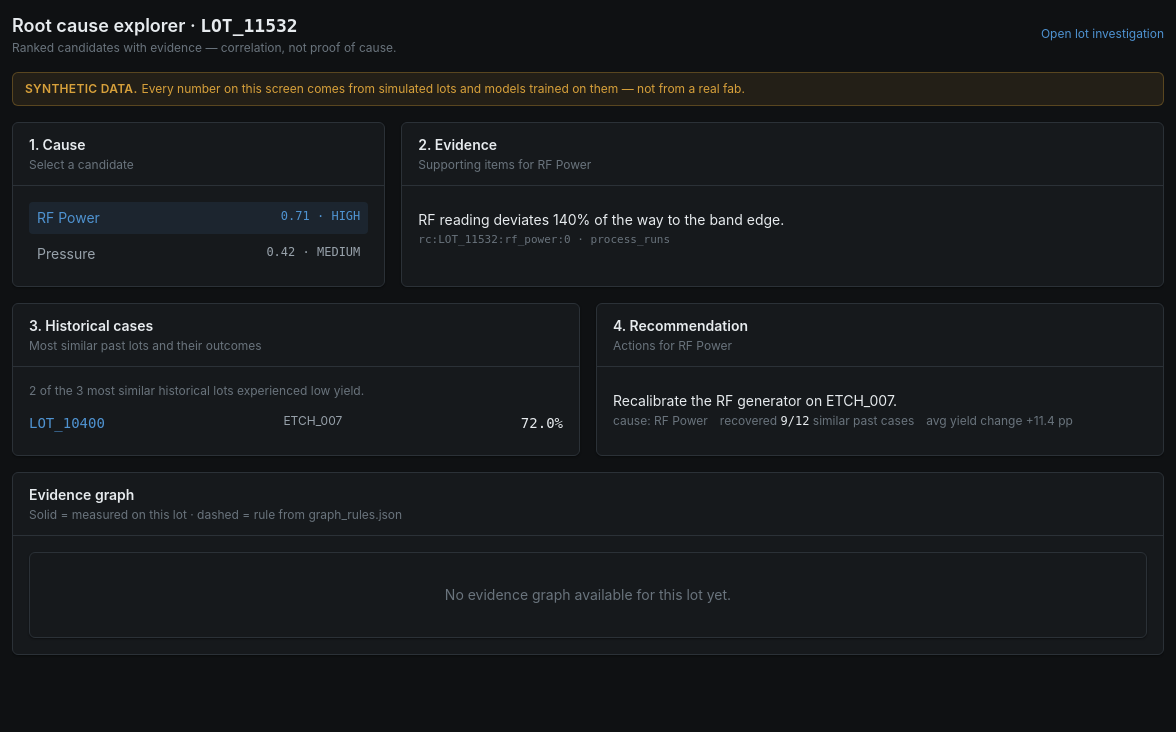
Test case: RootCauseExplorer › filters evidence and actions to the selected cause
The width and height of the screenshot is (1176, 732).
Expected: the list with test id "evidence-list" is shown, [418,211,784,246]
Expected: the text "RF reading deviates 140% of the way to the band edge." is shown, [418,211,784,228]
Click the button "Pressure 0.42 · MEDIUM".
click(66, 254)  # box [29,238,368,270]
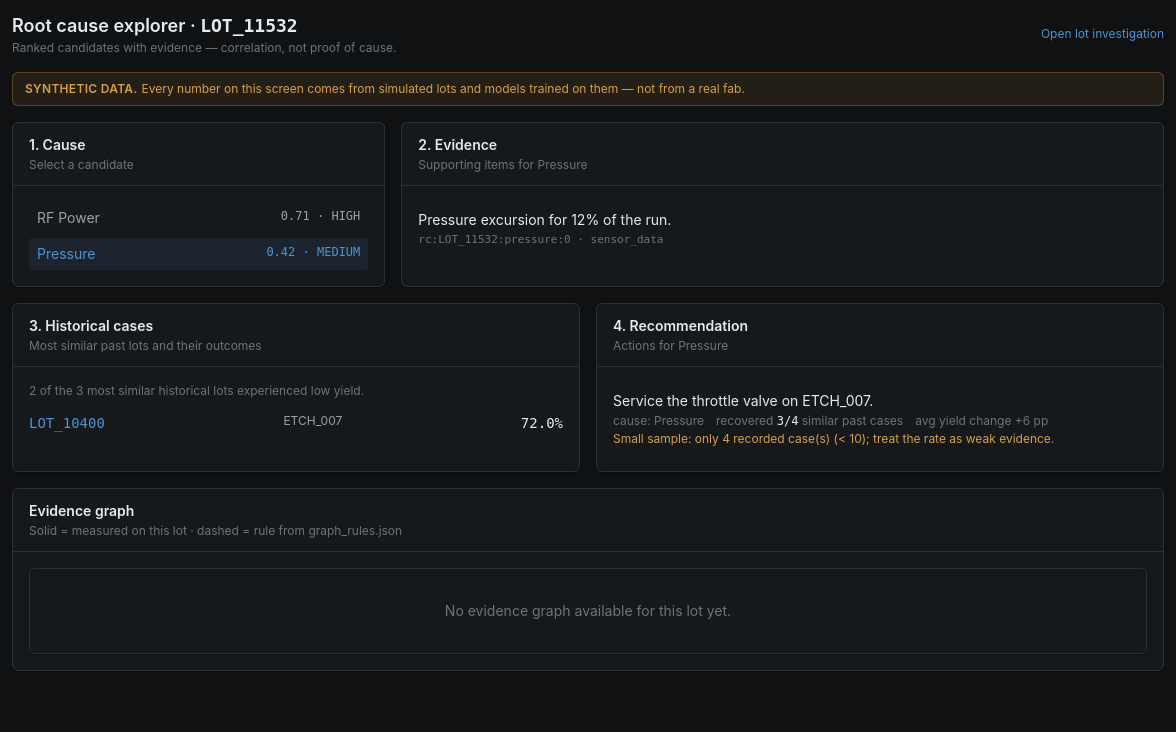
Expected: the text "2 of the 3 most similar" is shown, [29,383,364,398]
Now the text "Pressure excursion for 12% of the run." is shown, box [418,211,671,228]
Now the text "Service the throttle valve on ETCH_007." is shown, box [613,392,873,409]
